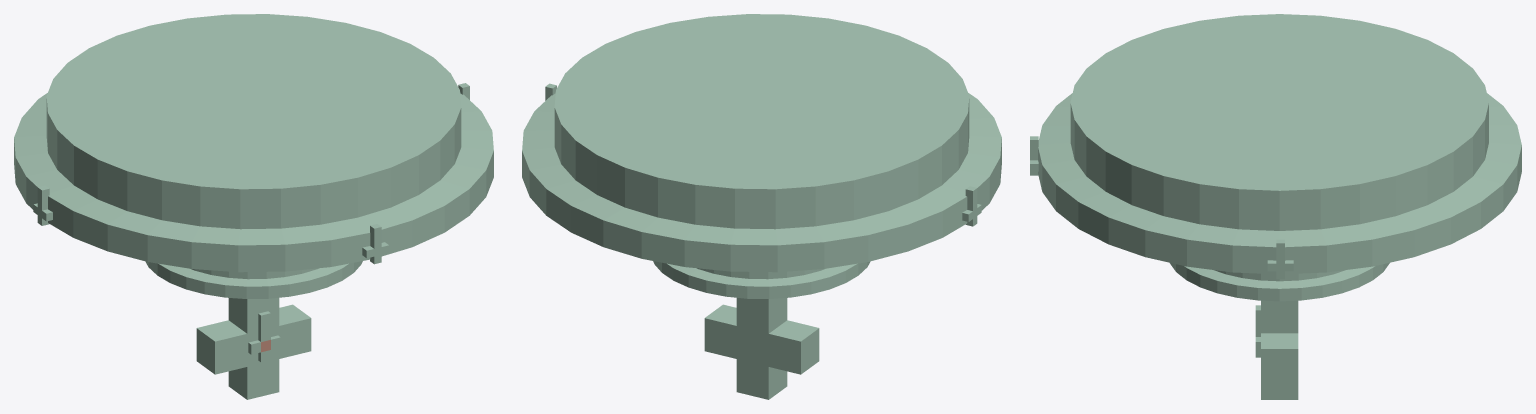
File: fountain.fbx
3 renders of one model, left to right at view 1: azimuth 30°, elevation 25°; view 2: azimuth 150°, elevation 25°; view 3: azimuth 270°, elevation 25°, orthographic.
Parts seen in each view (by area): view 1: Cube.014; view 2: Cube.014; view 3: Cube.014.
Part boxes in pixels (x1=…): Cube.014: x1=14, y1=14, x2=493, y2=399; Cube.014: x1=522, y1=14, x2=1001, y2=399; Cube.014: x1=1030, y1=14, x2=1521, y2=399.
Size of the model in its own units: 4.55 by 2.92 by 4.5.
